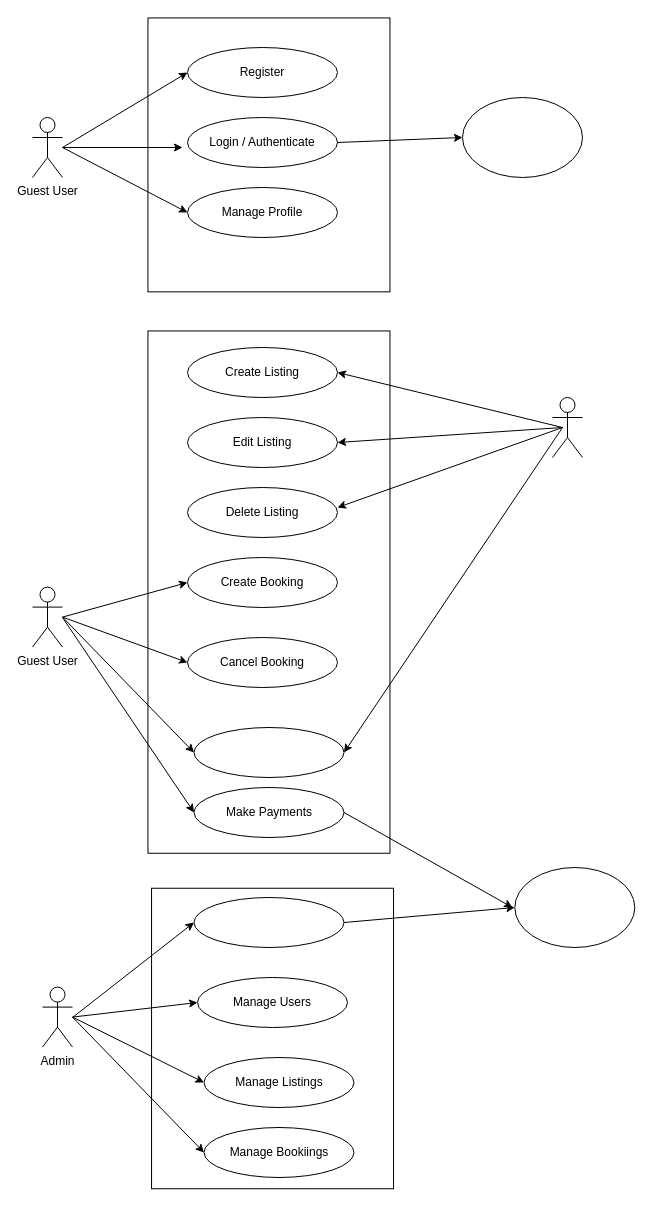
Image size: 653x1206. Some labels were removed from this diagram. The shapes that lost their labels are listed below. From the top down, each one's box as (x1, y1, x2, y2) in pixels, then its label:
(462, 96, 582, 178): OAuth Service
(552, 396, 582, 458): Host Guest
(193, 726, 344, 778): View Booking Status
(193, 896, 344, 948): Manage Payments
(514, 866, 635, 948): Payment Gateway
